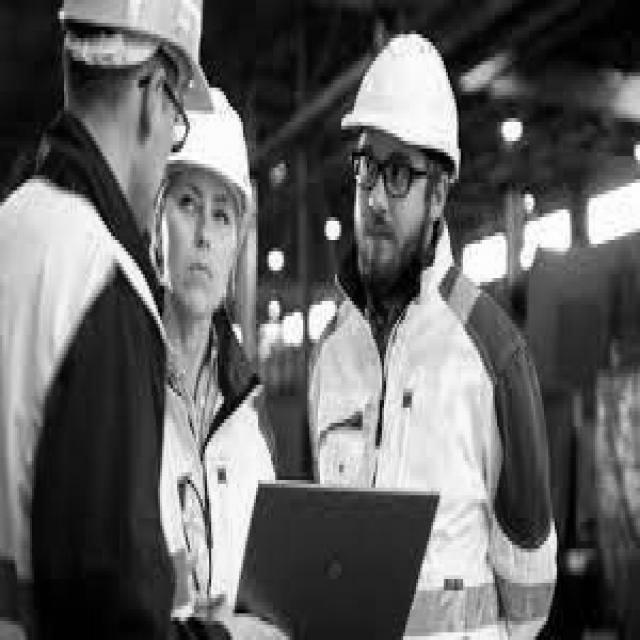construction helmet: (341, 34, 461, 171), (169, 88, 252, 206)
